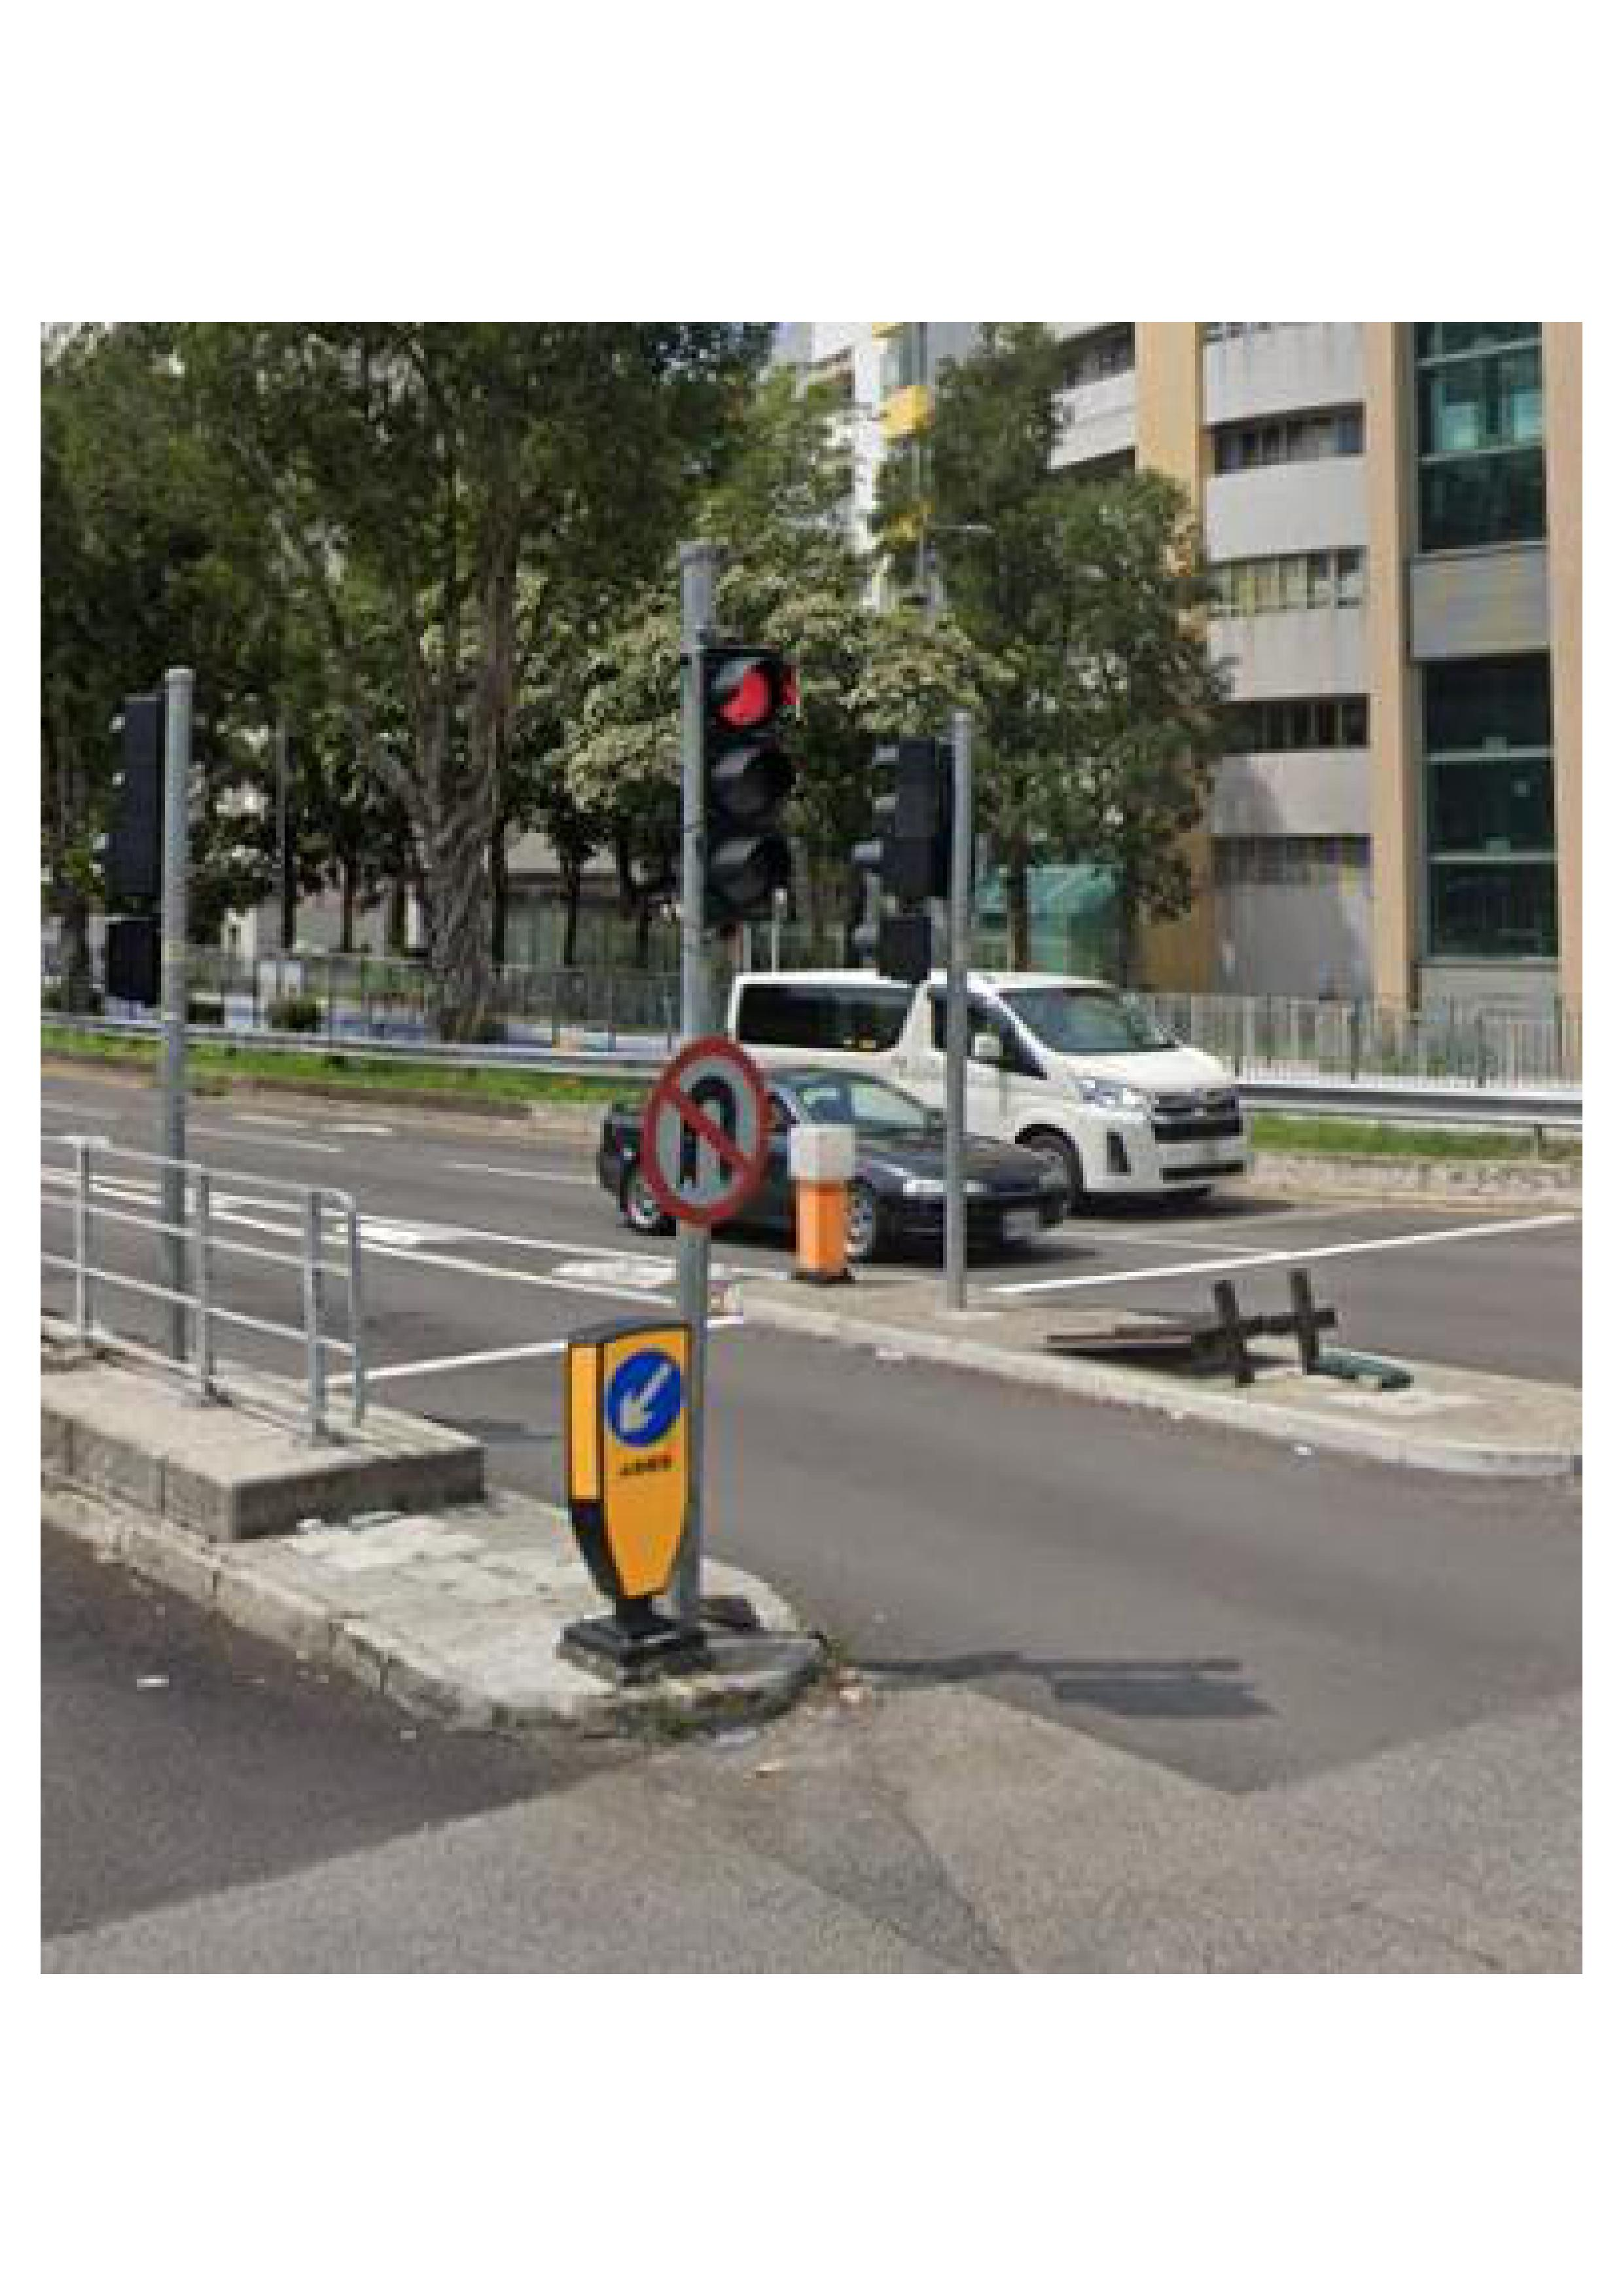No Uturn: (634, 1020, 794, 1236)
